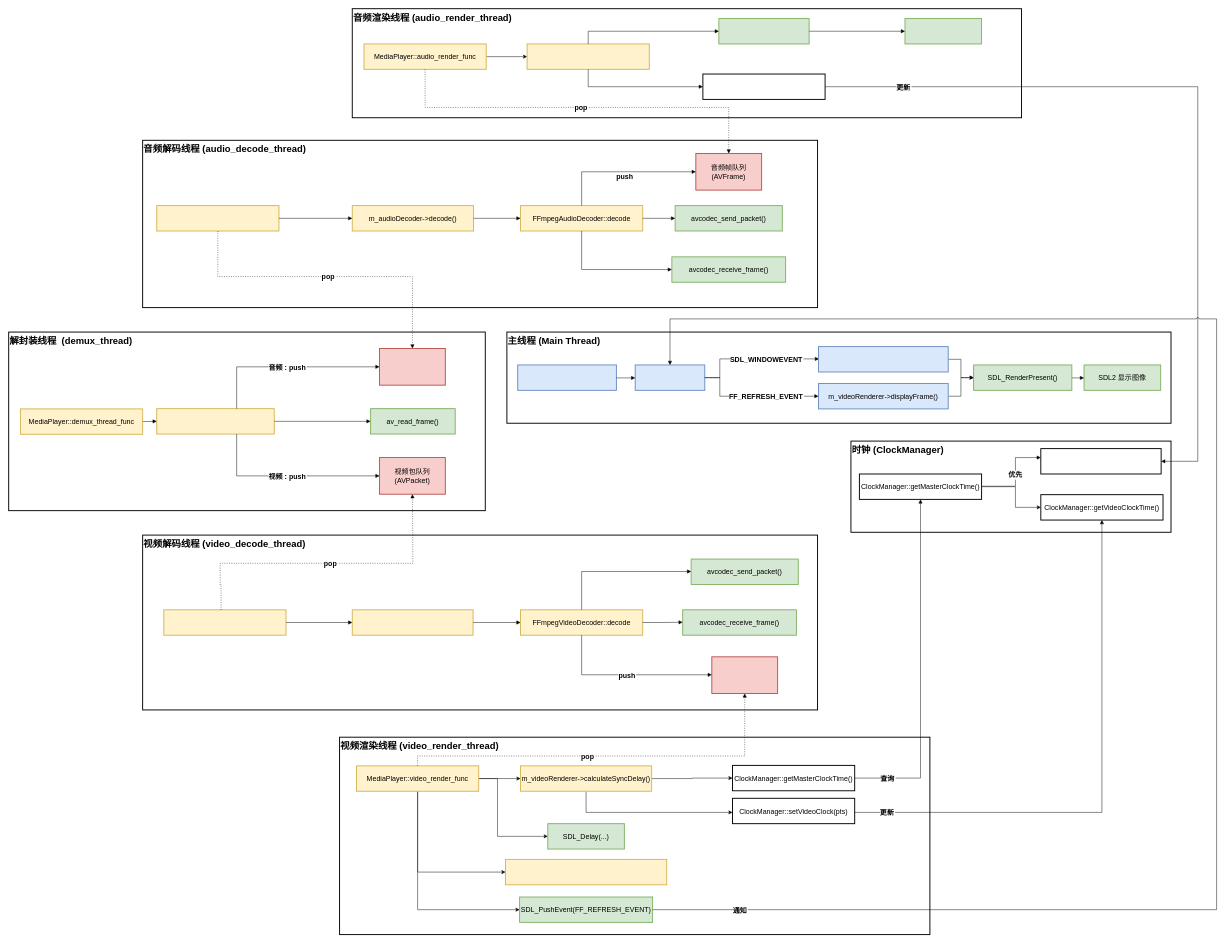
Image size: 1229x943. Some labels were removed from this diagram. Each missing label, with the centre of its shape:
"ClockManager::getAudioClockTime()" belongs at (x=1100, y=461).
"ClockManager::setAudioClock(pts)" belongs at (x=763, y=86).
"handle_event()" belongs at (x=669, y=377).
"m_audioRenderer->renderFrame()" belongs at (x=588, y=56).
"m_demuxer->readPacket()" belongs at (x=215, y=421).
"m_videoDecoder->decode()" belongs at (x=412, y=622).
"m_videoRenderer->prepareFrameForDisplay()" belongs at (x=586, y=872).
"m_videoRenderer->refresh()" belongs at (x=883, y=359).
"MediaPlayer::audio_decode_func" belongs at (x=217, y=218).
"MediaPlayer::runMainLoop()" belongs at (x=567, y=377).
"MediaPlayer::video_decode_func" belongs at (x=224, y=622).
"SDL2 播放声音" belongs at (x=943, y=31).
"SDL_QueueAudio()" belongs at (x=763, y=31).
"视频帧队列 (AVFrame)" belongs at (x=744, y=675).
"音频包队列 (AVPacket)" belongs at (x=412, y=366).
